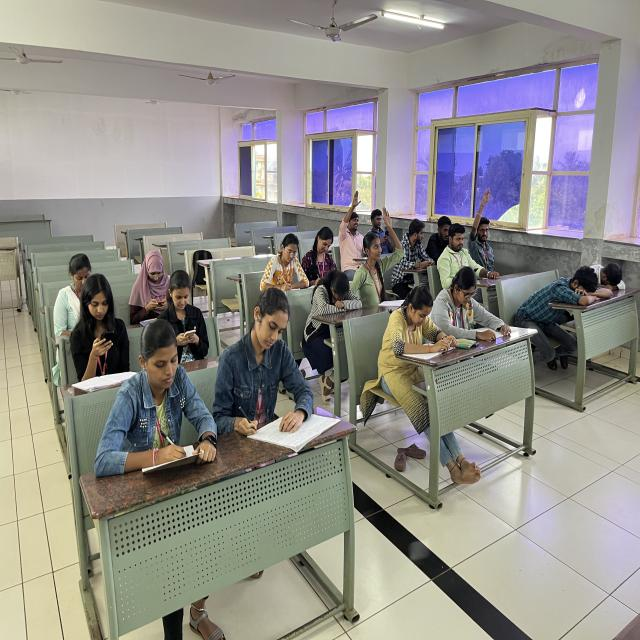Hand Rising: (360, 204, 401, 300), (470, 184, 500, 277)
Reading: (381, 282, 453, 390), (435, 264, 510, 348)
Sleeping: (516, 258, 614, 330), (303, 270, 361, 342), (575, 259, 639, 306)
Using Phone: (66, 276, 139, 381), (157, 271, 213, 360), (126, 246, 179, 316), (368, 206, 396, 252)
Writing: (195, 290, 336, 452), (94, 317, 212, 474), (257, 229, 311, 297), (300, 221, 343, 290)
